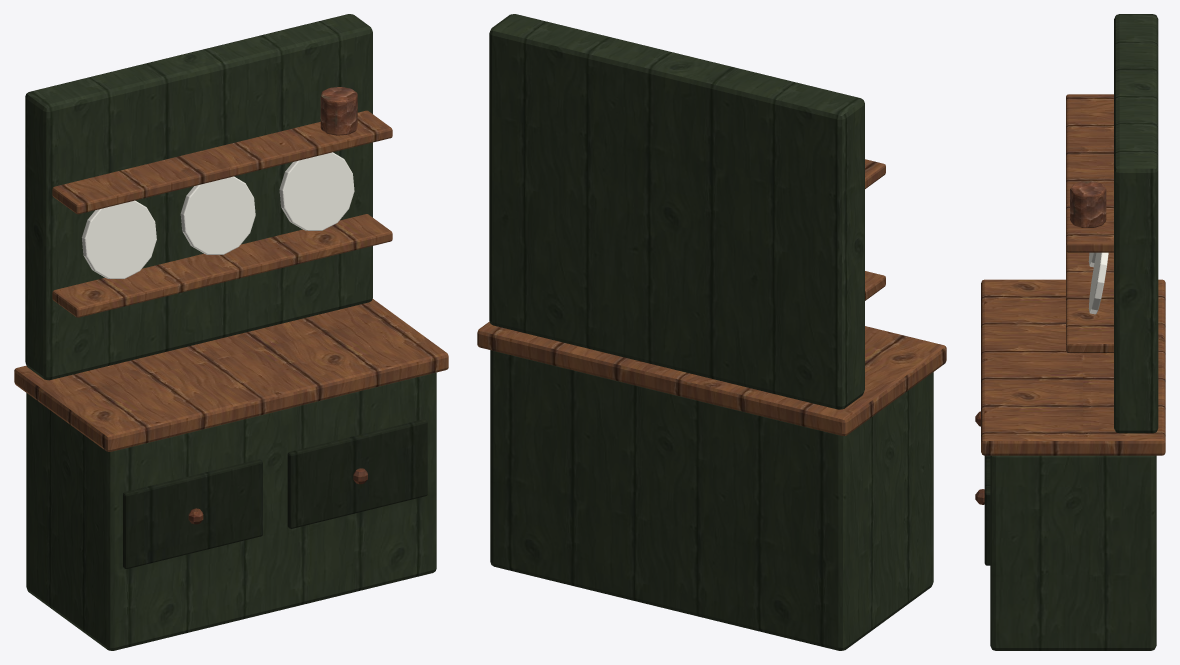
Rendered from hearth_dresser.glb.
3 renders of one model, left to right at view 1: azimuth 30°, elevation 25°; view 2: azimuth 150°, elevation 25°; view 3: azimuth 270°, elevation 25°, orthographic. The views are drawn at different scales.
Visible parts, largest first — view 1: model; view 2: model; view 3: model.
Part boxes in pixels (x1,y1,x2,y2): model: (14,14,448,650); model: (477,14,946,650); model: (975,14,1165,650).
Bounding box in the file's own units: 1.04 × 1.45 × 0.5159.
Materials: 6 (5 with a texture image).
